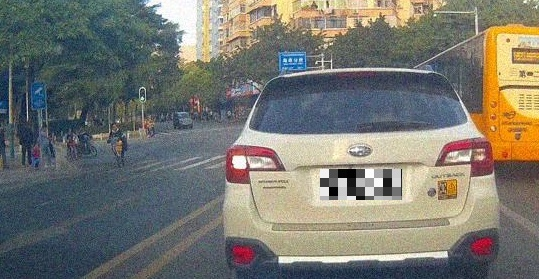L_light: (225, 145, 285, 184)
R_light: (435, 136, 494, 178)
T_light: (336, 72, 377, 78)
day-left: (222, 67, 500, 279)
plate_1: (320, 169, 402, 200)
